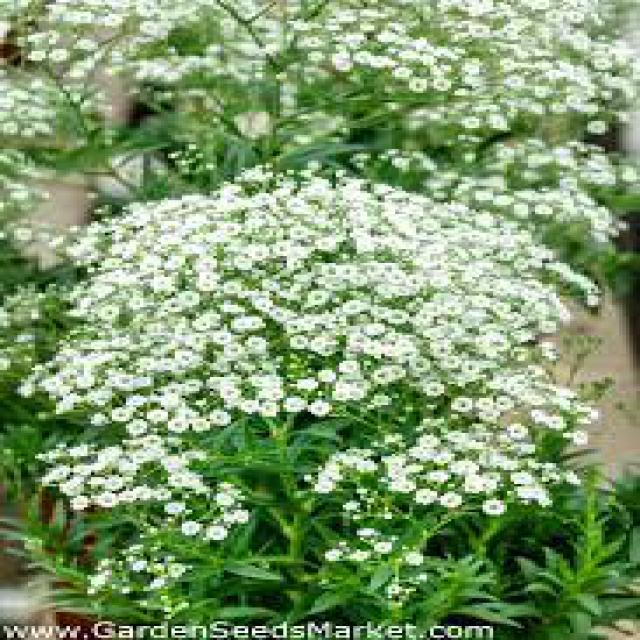gypsophila: (96, 208, 558, 426)
